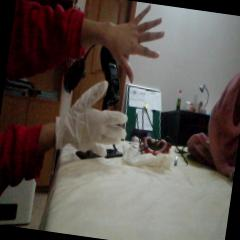gloved: (50, 74, 132, 160)
not-gloved: (88, 0, 169, 88)
